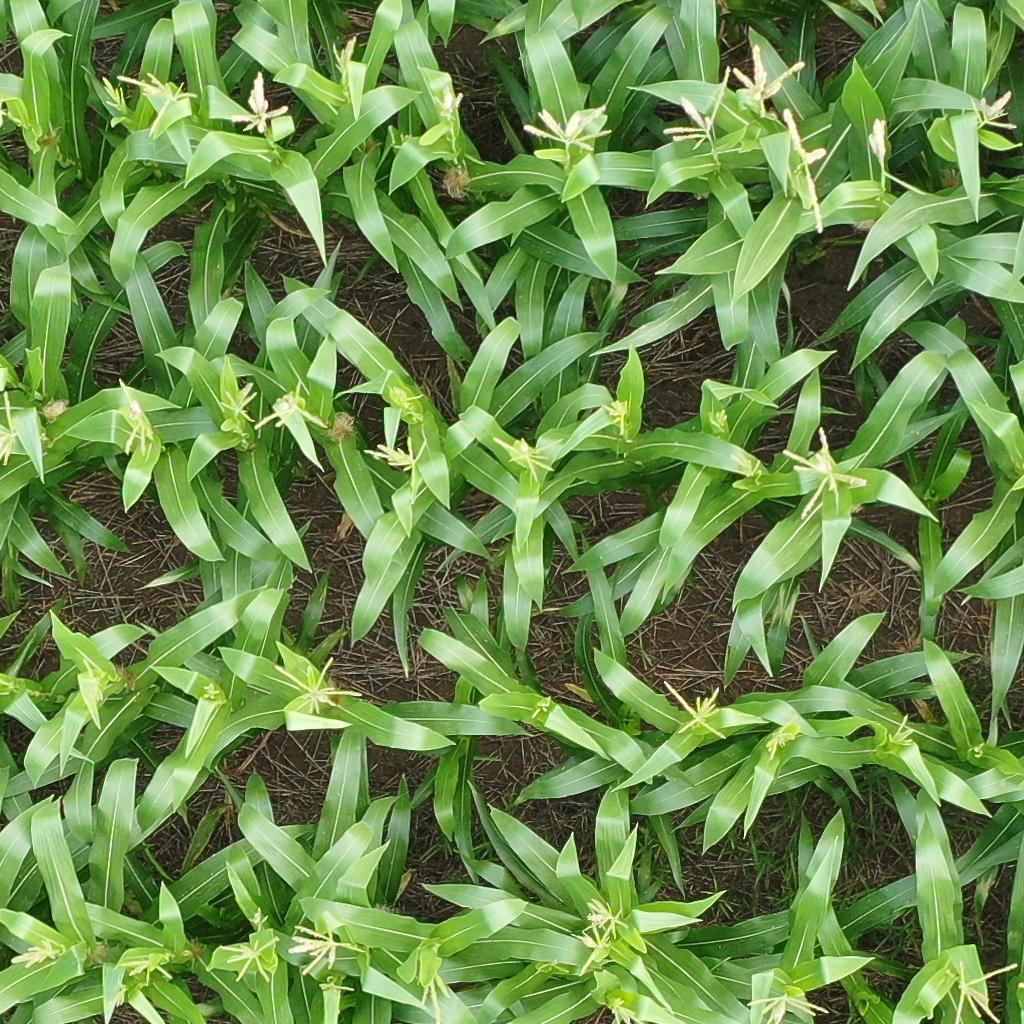Tassel: (779, 424, 866, 522), (659, 67, 734, 156), (783, 109, 831, 235), (117, 69, 201, 139), (731, 44, 808, 120), (270, 654, 364, 716), (944, 954, 1018, 1024), (360, 433, 432, 503), (659, 674, 733, 742), (289, 917, 365, 977), (524, 102, 613, 151), (490, 428, 566, 484), (226, 72, 292, 136), (252, 382, 330, 436), (116, 378, 156, 455), (216, 937, 280, 980), (747, 996, 831, 1024), (965, 89, 1018, 132), (762, 711, 802, 762), (217, 380, 259, 425), (418, 969, 452, 1024), (584, 901, 628, 940), (9, 940, 62, 971), (116, 955, 172, 983), (78, 657, 108, 709), (582, 926, 611, 977), (328, 37, 358, 85), (1, 390, 20, 465), (865, 116, 893, 165), (601, 396, 634, 436), (386, 386, 427, 417), (604, 994, 646, 1024), (432, 87, 466, 124), (96, 75, 130, 112), (321, 980, 355, 1015), (890, 714, 915, 743), (731, 454, 761, 478), (107, 985, 128, 1012), (249, 908, 270, 933), (201, 682, 223, 701), (715, 404, 731, 428), (530, 702, 548, 722)
